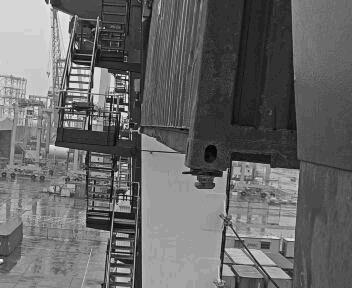twist_lock_1: (185, 159, 225, 193)
